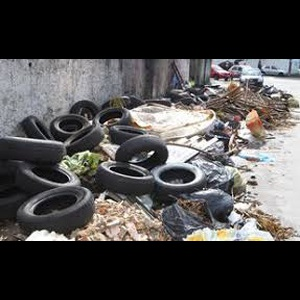tire: (16, 186, 95, 234), (14, 160, 82, 198), (113, 134, 169, 175), (151, 163, 207, 201), (98, 162, 155, 197), (1, 136, 64, 165), (50, 113, 92, 144), (20, 115, 57, 150), (65, 126, 103, 157), (94, 108, 133, 134), (107, 126, 151, 148)
